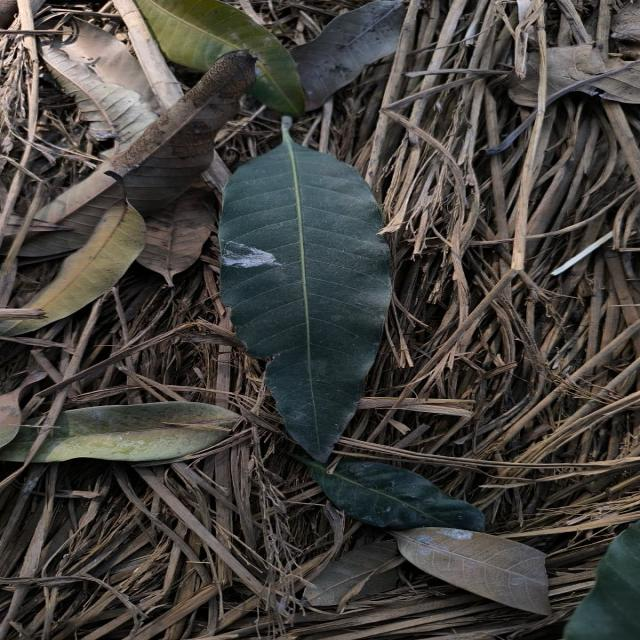Powdery Mildew: (220, 239, 284, 273)
